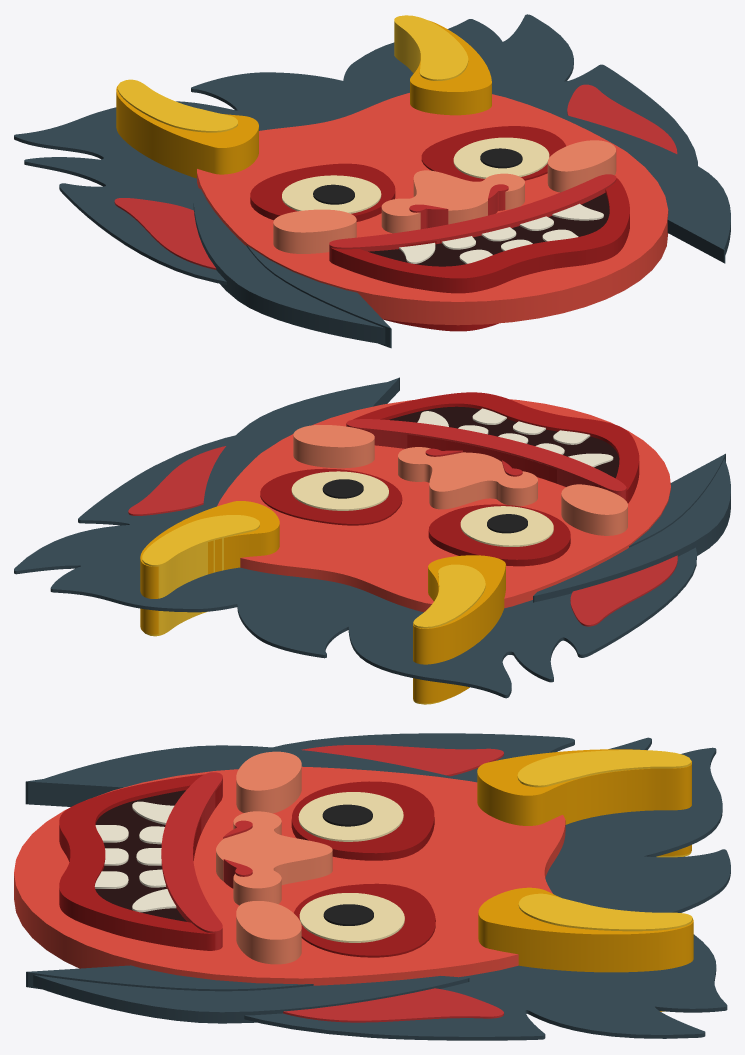
Rendered from emoji_u1f479.glb.
3 views of the same model, one above another, from view 1: azimuth 30°, elevation 25°; view 2: azimuth 150°, elevation 25°; view 3: azimuth 270°, elevation 25° (orthographic). The views are drawn at different scales.
Parts seen in each view (by area): view 1: emoji_u1f479; view 2: emoji_u1f479; view 3: emoji_u1f479.
Part boxes in pixels (<box>): emoji_u1f479: <box>14,14,730,348</box>; emoji_u1f479: <box>14,377,730,704</box>; emoji_u1f479: <box>14,733,730,1040</box>.
Size of the model in its own units: 0.0343 by 0.0048 by 0.0343.
